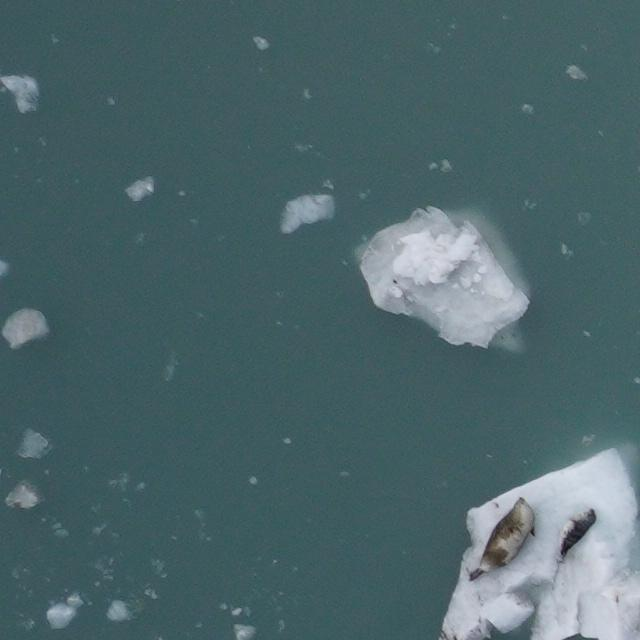seal: (462, 491, 542, 583), (557, 503, 598, 568)
